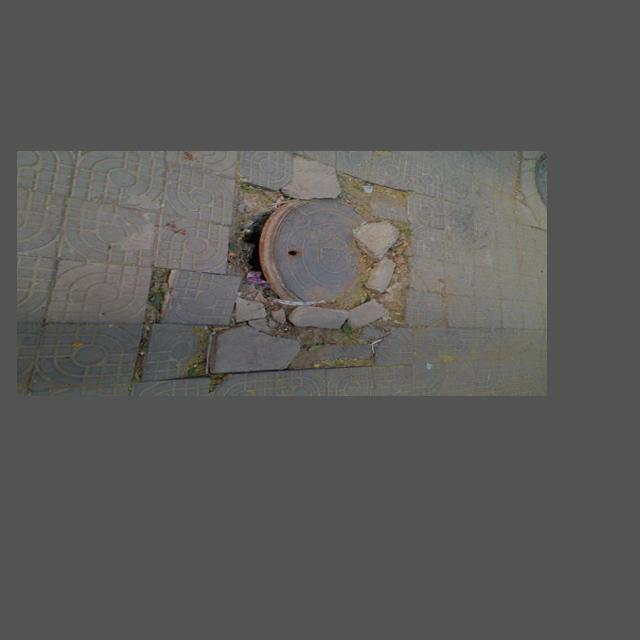circle: (207, 182, 415, 375)
